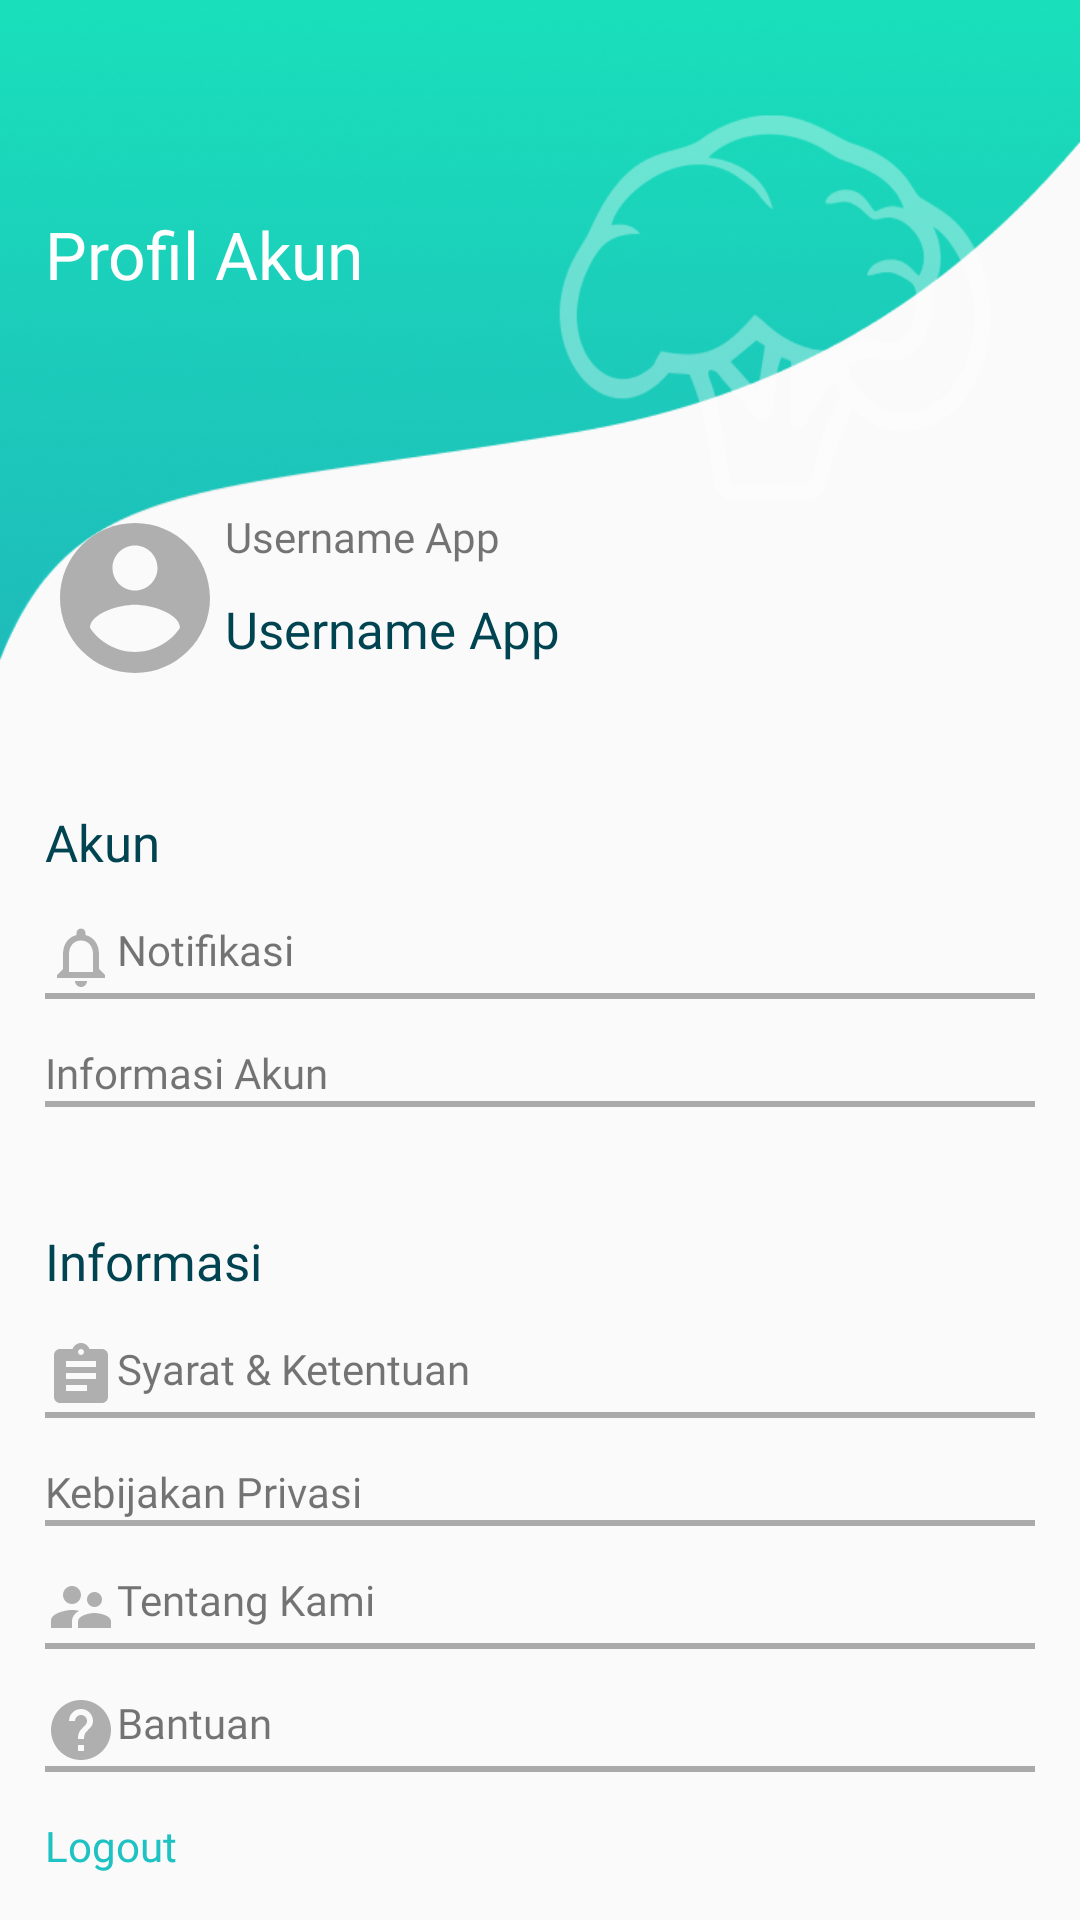

Point at icon controls on the screen. Image size 1080px×1920px, points as (x=x, y=y).
account circle: (x=127, y=590)
